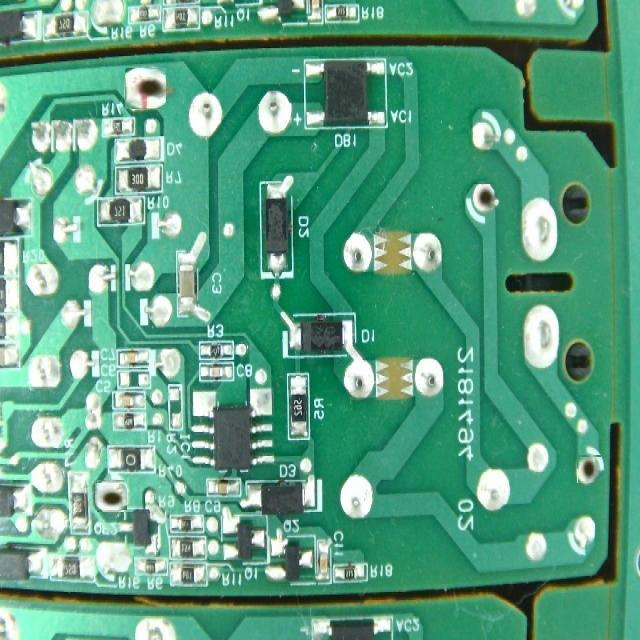damged: (125, 68, 166, 110), (96, 481, 126, 511), (474, 182, 497, 212), (577, 456, 601, 484)
